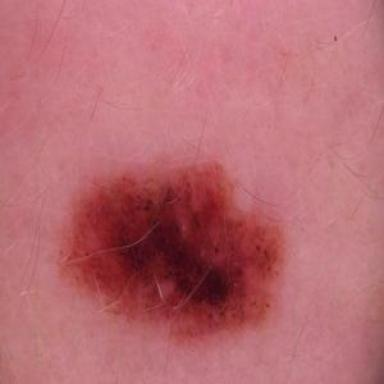Melanoma: (61, 163, 281, 336)
